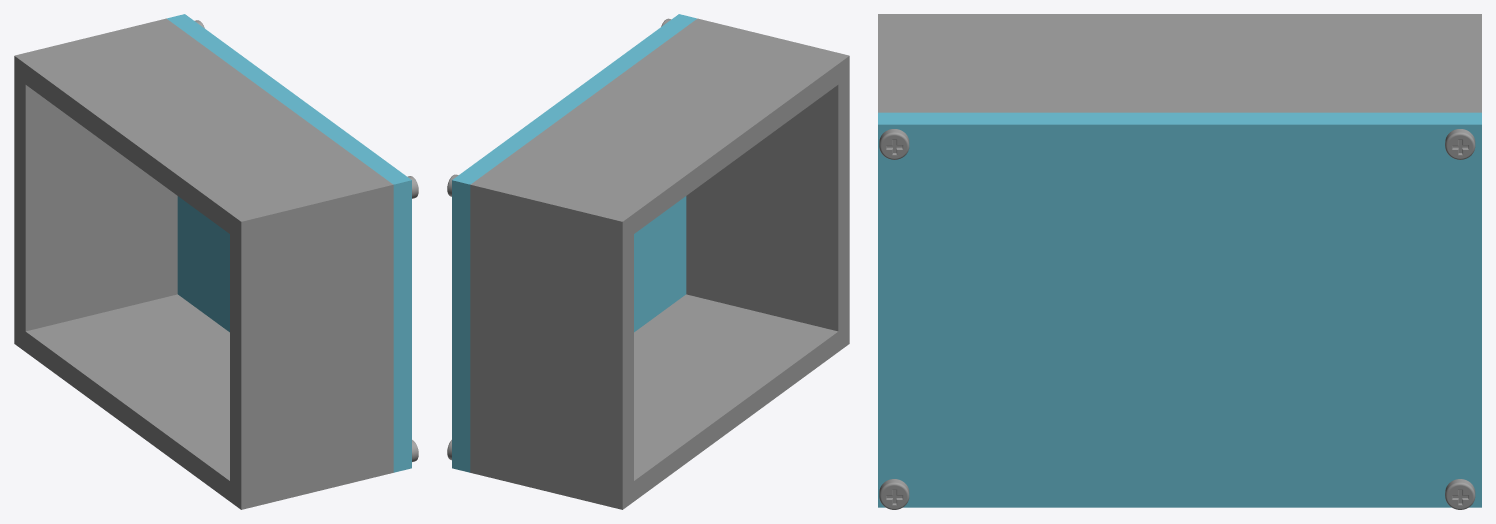
The model's file is Box zonder veer.fbx.
The picture shows the model from 3 angles, left to right: view 1: azimuth 30°, elevation 25°; view 2: azimuth 150°, elevation 25°; view 3: azimuth 270°, elevation 25°; orthographic projection. The views are drawn at different scales.
Parts seen in each view (by area): view 1: Body2, Body3; view 2: Body2, Body3; view 3: Body3, Body2, Body5, Body4, Body7, Body6.
Part boxes in pixels (x1,y1,x2,y2): Body2: [14, 18, 393, 509]; Body3: [166, 14, 411, 472]; Body2: [470, 18, 849, 509]; Body3: [452, 14, 696, 472]; Body3: [878, 112, 1481, 507]; Body2: [878, 14, 1481, 112]; Body5: [879, 129, 909, 159]; Body4: [879, 479, 909, 509]; Body7: [1445, 129, 1475, 159]; Body6: [1445, 479, 1475, 509].
Bounding box in the file's own units: 45.4 × 70 × 100.
